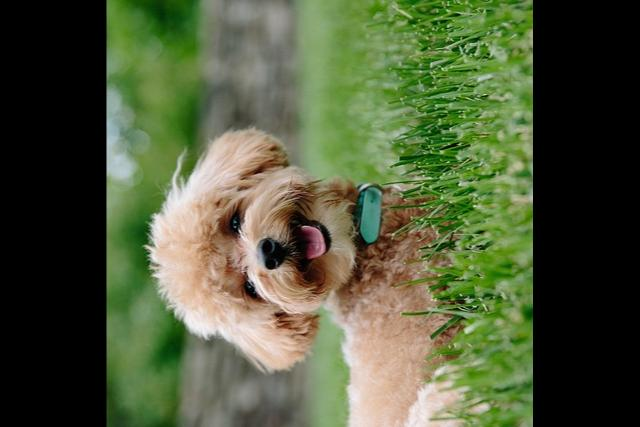Non_Gorille: (139, 46, 501, 427)
